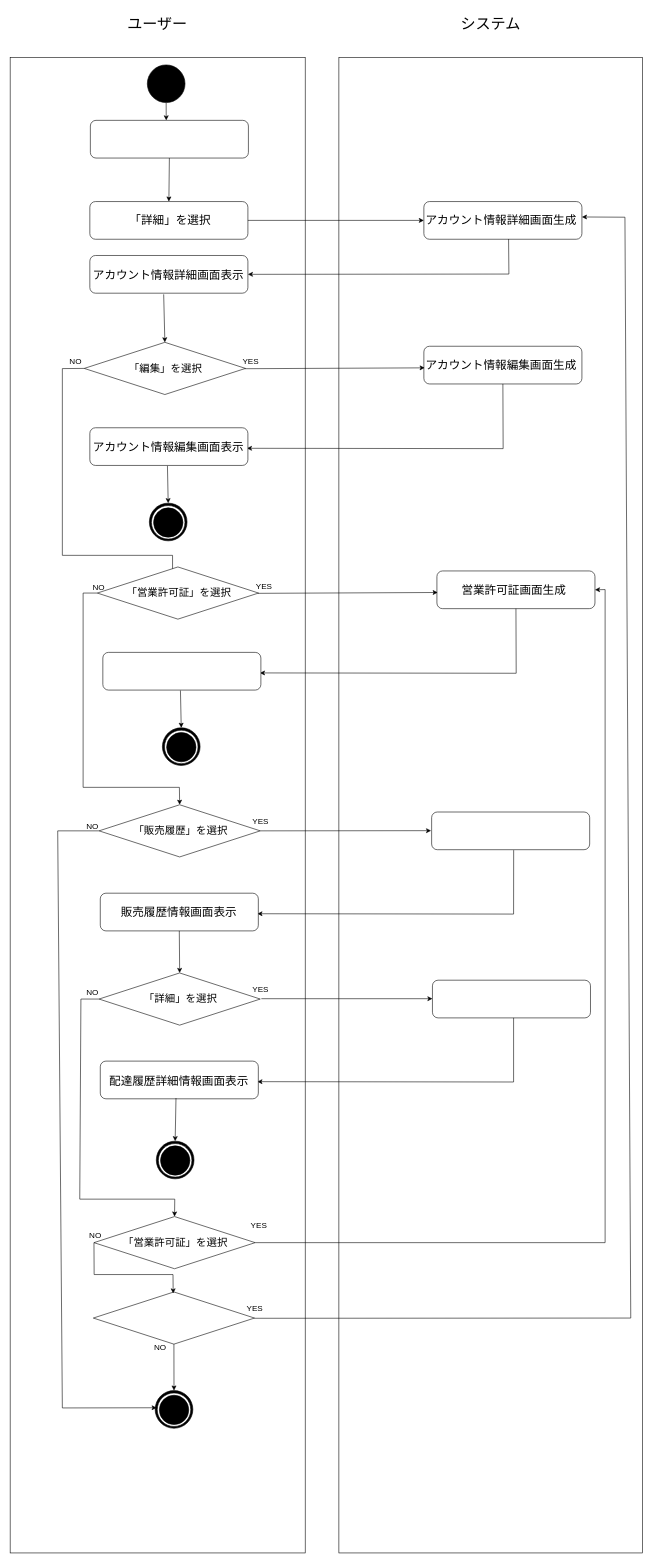
The diagram is 653 pixels wide and 1563 high, and some of its shapes have lost their labels. The shapes that lost their labels are listed below. From the top down, each one's box as (x1, y1, x2, y2) in pixels, then its label:
(90, 120, 248, 158): 店舗アカウント 一覧画面表示
(102, 652, 261, 690): 営業許可証画面表示
(431, 811, 590, 850): 販売履歴情報画面生成
(432, 980, 590, 1018): 配達履歴詳細情報画面生成
(93, 1291, 255, 1344): 「アカウント情報」を選択
